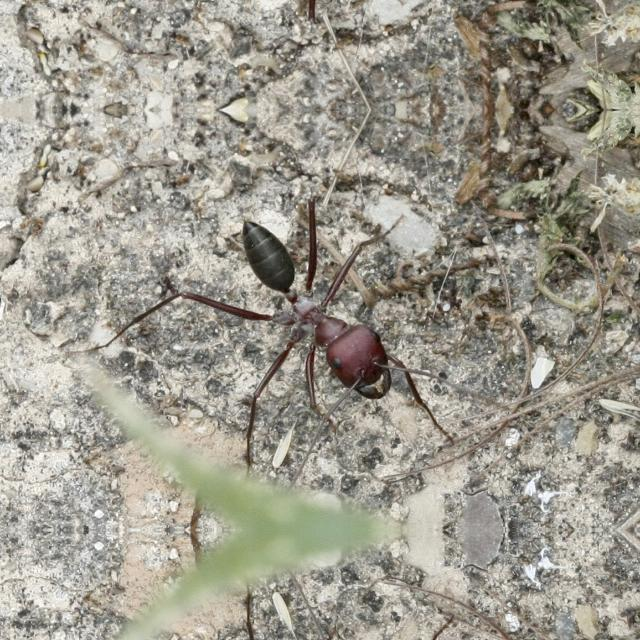Cataglyphis: (183, 203, 444, 427)
